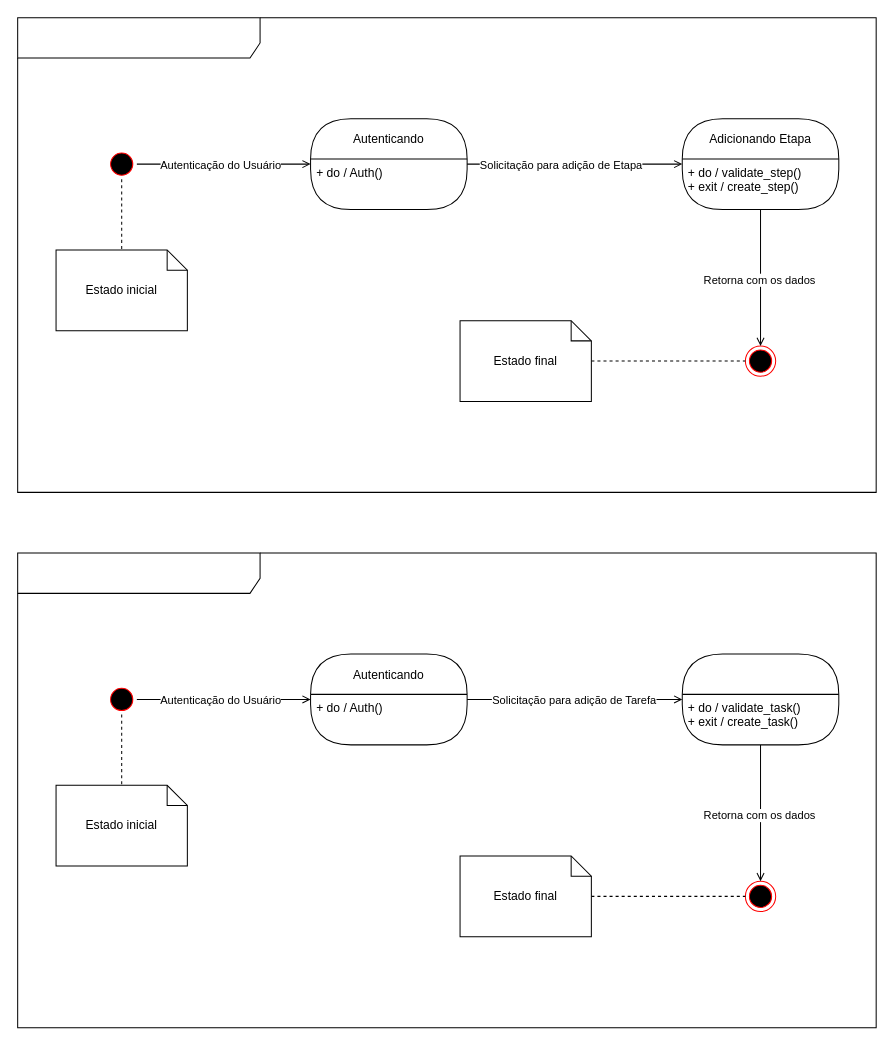
This 894x1045 diagram has some shape labels left out. The shapes that lost their labels are listed below. From the top down, each one's box as (x1, y1, x2, y2) in pixels, then its label:
(17, 17, 876, 492): stm Adicionar Etapa
(681, 653, 839, 745): Adicionando Tarefa
(17, 552, 876, 1028): stm Adicionar Tarefa
